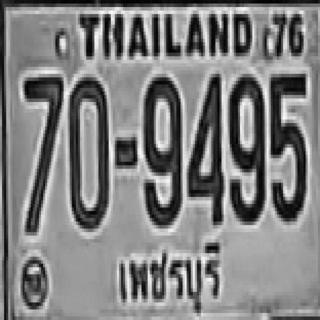N00: (69, 74, 108, 229)
N04: (187, 70, 221, 222)
N05: (269, 70, 306, 218)
N07: (22, 72, 62, 230)
N09: (142, 74, 180, 225), (228, 70, 263, 222)
P44: (108, 239, 229, 320)
